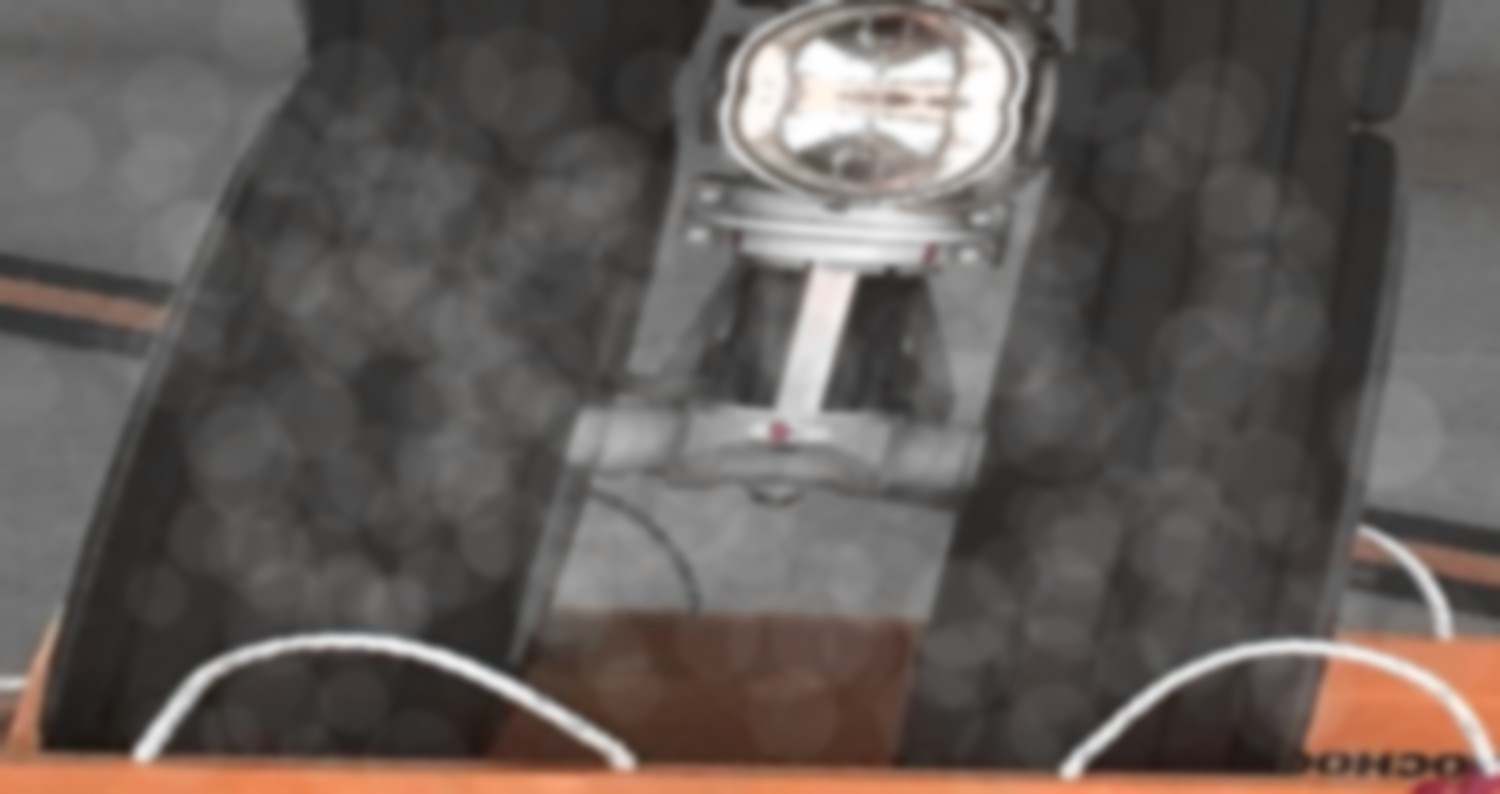chock: (0, 495, 1500, 794)
wheel: (23, 53, 705, 794), (911, 104, 1431, 794), (1037, 0, 1491, 136)
